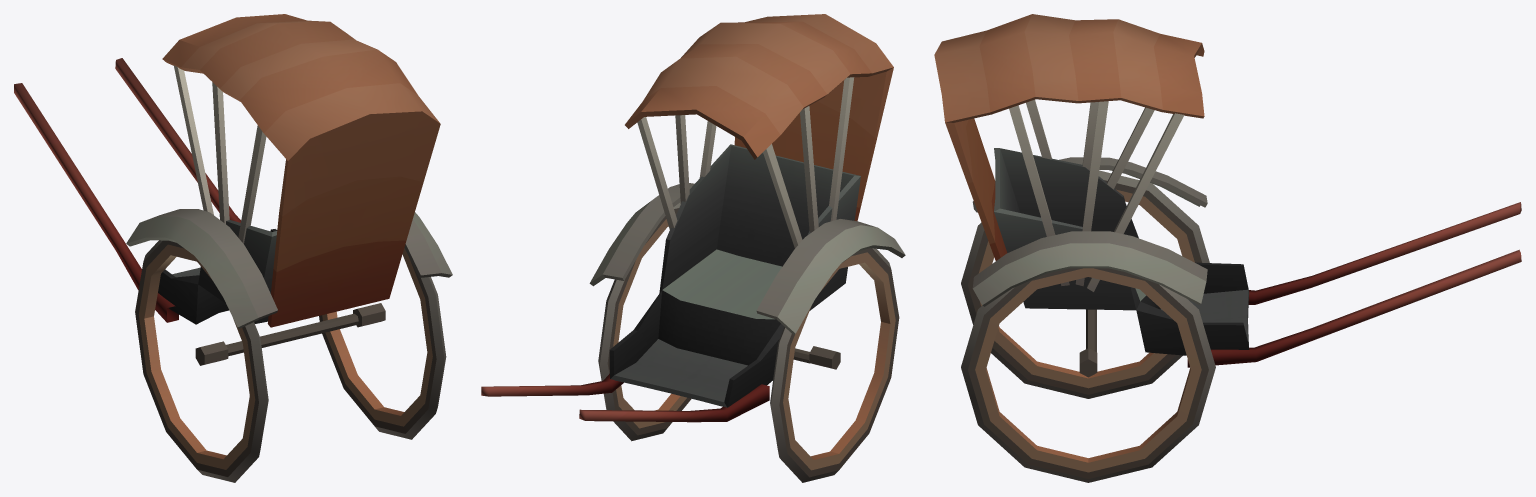
File: SM_XeKeo_01.fbx
3 views of the same model, side by side, from view 1: azimuth 30°, elevation 25°; view 2: azimuth 150°, elevation 25°; view 3: azimuth 270°, elevation 25° (orthographic). The views are drawn at different scales.
Parts seen in each view (by area): view 1: SM_XeKeo_01; view 2: SM_XeKeo_01; view 3: SM_XeKeo_01.
Part boxes in pixels (x1,y1,x2,y2): SM_XeKeo_01: [14, 14, 452, 482]; SM_XeKeo_01: [481, 14, 905, 482]; SM_XeKeo_01: [934, 14, 1521, 482].
Bounding box in the file's own units: 1.17 × 2.18 × 2.84.
